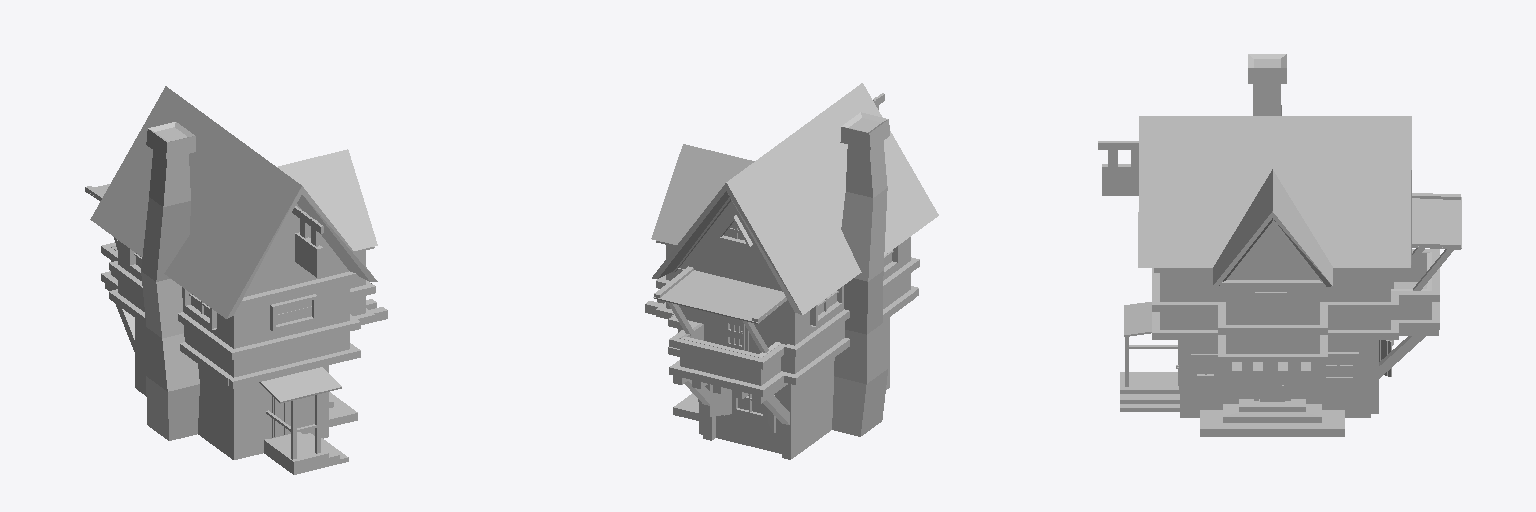
Rendered from House_Mer.obj.
The picture shows the model from 3 angles: view 1: azimuth 30°, elevation 25°; view 2: azimuth 150°, elevation 25°; view 3: azimuth 270°, elevation 25°; orthographic projection.
Parts seen in each view (by area): view 1: Cube_Cube.000, Cube.014_Cube.000, Cube.007_Cube.000, Cube.008_Cube.000, Cube.009_Cube.000, Cube.016_Cube.000; view 2: Cube_Cube.000, Cube.014_Cube.000, Cube.003_Cube.000, Cube.005_Cube.000, Cube.012_Cube.000, Cube.001_Cube.000, Cube.023_Cube.000; view 3: Cube_Cube.000, Cube.009_Cube.000, Cube.007_Cube.000, Cube.014_Cube.000, Cube.016_Cube.000, Cube.008_Cube.000, Cube.005_Cube.000, Cube.028_Cube.000, Cube.006_Cube.000, Cube.002_Cube.000, Cube.001_Cube.000.
Part boxes in pixels (x1,y1,x2,y2): Cube_Cube.000: (85,86,377,459); Cube.014_Cube.000: (141,122,199,440); Cube.007_Cube.000: (264,394,348,474); Cube.008_Cube.000: (259,367,341,403); Cube.009_Cube.000: (269,392,357,438); Cube.016_Cube.000: (295,211,323,277); Cube_Cube.000: (651,83,938,456); Cube.014_Cube.000: (832,112,889,436); Cube.003_Cube.000: (782,384,794,459); Cube.005_Cube.000: (673,375,789,424); Cube.012_Cube.000: (723,316,748,351); Cube.001_Cube.000: (654,266,786,321); Cube.023_Cube.000: (710,384,731,416); Cube_Cube.000: (1138,116,1461,417); Cube.009_Cube.000: (1178,292,1344,436); Cube.007_Cube.000: (1120,337,1179,411); Cube.014_Cube.000: (1248,54,1286,115); Cube.016_Cube.000: (1102,141,1138,195); Cube.008_Cube.000: (1124,302,1151,336); Cube.005_Cube.000: (1379,330,1438,378); Cube.028_Cube.000: (1191,354,1358,381); Cube.006_Cube.000: (1232,362,1310,379); Cube.002_Cube.000: (1371,340,1378,413); Cube.001_Cube.000: (1412,193,1460,247).
Size of the model in its own units: 10.56 by 14.13 by 15.45.